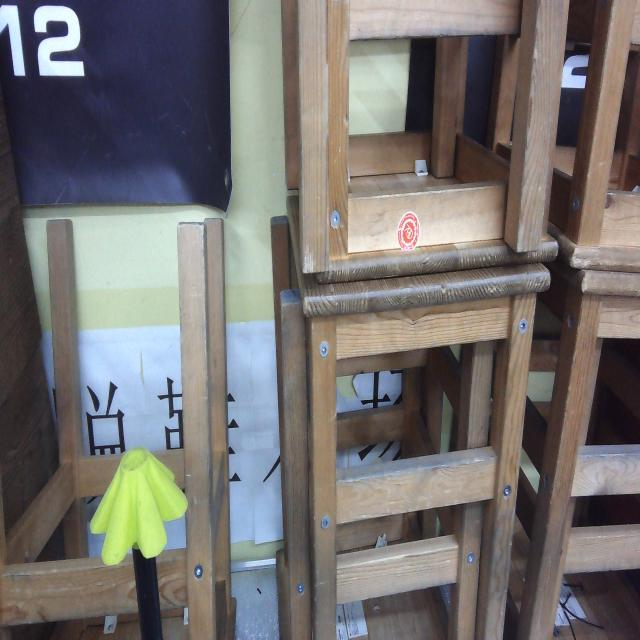Yellow-Stake-Head: (89, 446, 188, 568)
